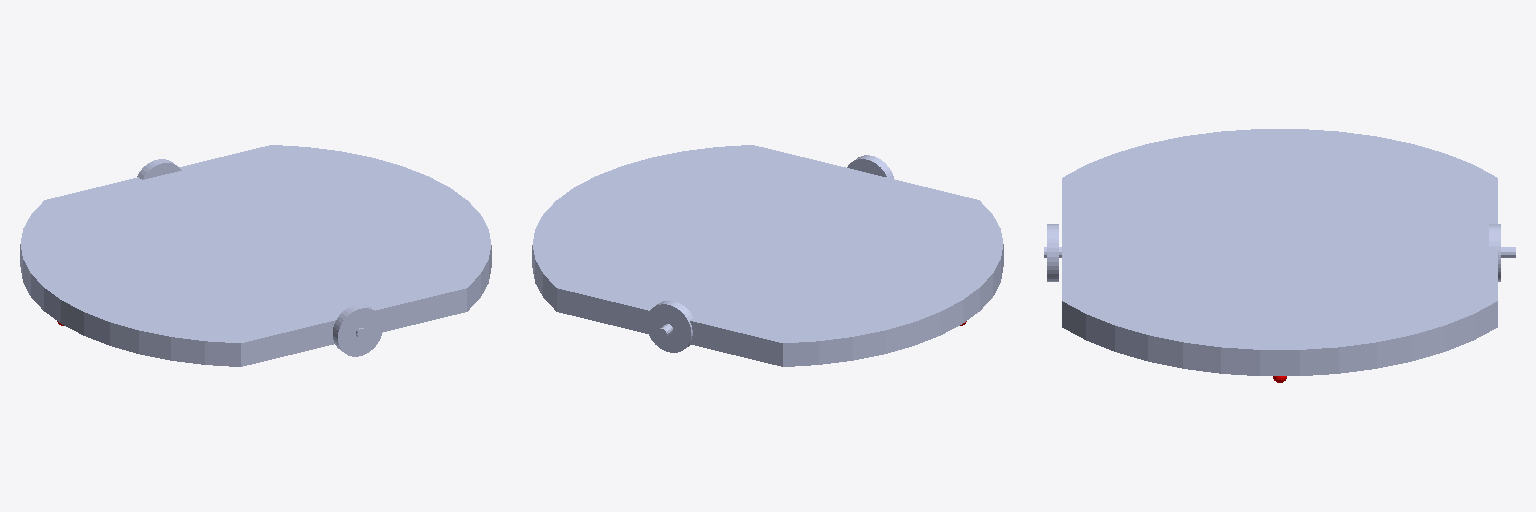
URDF robot description (duckbot):
<?xml version="1.0" encoding="utf-8"?>
<!-- This URDF was automatically created by SolidWorks to URDF Exporter and modified by SeaHI-Robot(https://github.com/SeaHI-Robot?tab=repositories)! Originally created by Stephen Brawner ([email redacted]) 
     Commit Version: 1.6.0-4-g7f85cfe  Build Version: 1.6.7995.38578
     For more information, please see http://wiki.ros.org/sw_urdf_exporter -->
     
<robot name="duckbot" xmlns:xacro="http://wiki.ros.org/xacro">
  

<!-- LINK & JOINT DUMMY ########## FOOTPRINT ########## -->

  <link name="footprint"/>

  <joint name="footprint_joint" type="fixed">
    <parent link="footprint"/>
    <child link="base_link"/>    
  </joint>

  
<!-- LINK & JOINT ########## SUPPORT WHEELS ########## -->

  <link name="support_1">
    <visual name="">
      <origin xyz="0.085 0.0 -0.002" rpy="0.0 0.0 0.0"/>
      <geometry>
        <sphere radius="0.0025"/>
      </geometry>
      <material name="">
        <color rgba="1.0 0.0 0.0 1.0"/>
      </material>
    </visual>
    <collision>
      <origin xyz="0.085 0.0 -0.002" rpy="0.0 0.0 0.0"/>
      <geometry>
        <sphere radius="0.0025"/>
      </geometry>
    </collision>
  </link>

  <joint name="support_joint_1" type="fixed">
    <parent link="footprint"/>
    <child link="support_1"/>
  </joint>


  <link name="support_2">
    <visual name="">
      <origin xyz="-0.085 0.0 -0.002" rpy="0.0 0.0 0.0"/>
      <geometry>
        <sphere radius="0.0025"/>
      </geometry>
      <material name="">
        <color rgba="1.0 0.0 0.0 1.0"/>
      </material>
    </visual>
    <collision>
      <origin xyz="-0.085 0.0 -0.002" rpy="0.0 0.0 0.0"/>
      <geometry>
        <sphere radius="0.0025"/>
      </geometry>
    </collision>
  </link>

  <joint name="support_joint_2" type="fixed">
    <parent link="footprint"/>
    <child link="support_2"/>
  </joint>
  


<!-- LINK ########## BASE ########## -->
  <link name="base_link">
    <inertial>
      <origin
        xyz="0 0.005 3.8314E-18"
        rpy="0 0 0" />
      <mass
        value="0.1" />
      <inertia
        ixx="0.00038293"
        ixy="2.0091E-23"
        ixz="2.1411E-20"
        iyy="0.00088576"
        iyz="-2.0476E-37"
        izz="0.00050674" />
    </inertial>
    <visual>
      <origin
        xyz="0 0 0"
        rpy="0 0 0" />
      <geometry>
        <mesh
          filename="package://duckbot/meshes/base_link.STL" />
      </geometry>
      <material name="">
        <color rgba="0.79216 0.81961 0.93333 1" />
      </material>
    </visual>
    <collision>
      <origin
        xyz="0 0 0"
        rpy="0 0 0" />
      <geometry>
        <mesh
          filename="package://duckbot/meshes/base_link.STL" />
      </geometry>
    </collision>
  </link>

  


<!-- LINK ########## LEFT WHEEL ########## -->
  
  <link name="left_wheel_link">
    <inertial>
      <origin
        xyz="-0.002 0 0"
        rpy="0 0 1.5708" />
      <mass
        value="0.01" />
      <inertia
        ixx="6.2731E-08"
        ixy="9.8313E-21"
        ixz="1.6798E-21"
        iyy="3.2974E-08"
        iyz="8.2718E-25"
        izz="3.2974E-08" />
    </inertial>
    <visual>
      <origin
        xyz="0 0 0"
        rpy="0 0 1.5708" />
      <geometry>
        <mesh
          filename="package://duckbot/meshes/left_wheel_link.STL" />
      </geometry>
      <material
        name="">
        <color
          rgba="0.79216 0.81961 0.93333 1" />
      </material>
    </visual>
    <collision>
      <origin
        xyz="0 0 0"
        rpy="0 0 1.5708" />
      <geometry>
        <mesh
          filename="package://duckbot/meshes/left_wheel_link.STL" />
      </geometry>
    </collision>
  </link>




<!-- LINK ########## RIGHT WHEEL ########## -->
  
  <link name="right_wheel_link">
    <inertial>
      <origin
        xyz="-0.002 0 0"
        rpy="0 0 1.5708" />
      <mass
        value="0.01" />
      <inertia
        ixx="6.2731E-08"
        ixy="9.974E-21"
        ixz="-1.822E-24"
        iyy="3.2974E-08"
        iyz="-6.107E-37"
        izz="3.2974E-08" />
    </inertial>
    <visual>
      <origin
        xyz="0 0 0"
        rpy="0 0 1.5708" />
      <geometry>
        <mesh
          filename="package://duckbot/meshes/right_wheel_link.STL" />
      </geometry>
      <material
        name="">
        <color
          rgba="0.79216 0.81961 0.93333 1" />
      </material>
    </visual>
    <collision>
      <origin
        xyz="0 0 0"
        rpy="0 0 1.5708" />
      <geometry>
        <mesh
          filename="package://duckbot/meshes/right_wheel_link.STL" />
      </geometry>
    </collision>
  </link>



<!-- LINK & JOINT ########## VISUAL DUCK ########## -->

  <link name="duck">
    <visual name="duck_visual">
      <origin xyz="0.0 0.0 .001" rpy="1.5708 0.0 0.0"/>
      <geometry>
        <mesh filename="package://duckbot/meshes/duck.dae" />
      </geometry>
    </visual>
  </link>

  <joint name="duck_joint" type="fixed">
    <parent link="base_link"/>
    <child link="duck"/>
  </joint>



<!-- JOINT ########## RIGHT WHEEL ########## -->

  <joint name="right_joint" type="continuous">
    <origin
      xyz="0 -0.075833 0.005"
      rpy="0 0 0" />
    <parent
      link="base_link" />
    <child
      link="right_wheel_link" />
    <axis
      xyz="0 1 0" />
  </joint>



<!-- Joint ########## LEFT WHEEL ########## -->

  <joint name="left_joint" type="continuous">
    <origin
      xyz="0 0.075833 0.005"
      rpy="0 0 0" />
    <parent
      link="base_link" />
    <child
      link="left_wheel_link" />
    <axis
      xyz="0 1 0" />
  </joint>
</robot>

--- What the picture shows (computed from the rendered views, not written in the file) ---
3 views of the same robot in one strip: view 1: azimuth 30°, elevation 25°; view 2: azimuth 150°, elevation 25°; view 3: azimuth 270°, elevation 25° (orthographic).
Robot: duckbot — 7 links, 6 joints (2 continuous, 4 fixed); root link footprint; default pose: every joint at zero.
Links seen in each view (by area): view 1: base_link, right_wheel_link, left_wheel_link; view 2: base_link, left_wheel_link, right_wheel_link; view 3: base_link, right_wheel_link.
Boxes of the visible links, x1,y1,x2,y2 form: base_link: (20, 145, 491, 366); right_wheel_link: (333, 304, 382, 356); left_wheel_link: (137, 159, 181, 179); base_link: (532, 145, 1003, 366); left_wheel_link: (646, 300, 693, 352); right_wheel_link: (847, 155, 893, 178); base_link: (1044, 129, 1515, 375); right_wheel_link: (1047, 224, 1058, 281).
Bounding box of the posed robot: 0.1795 × 0.1617 × 0.02 m (x, y, z).
3 mesh visuals loaded from 4 distinct referenced files (3 binary STL); not drawn: 1 (reference not matched to a file when rendering).
